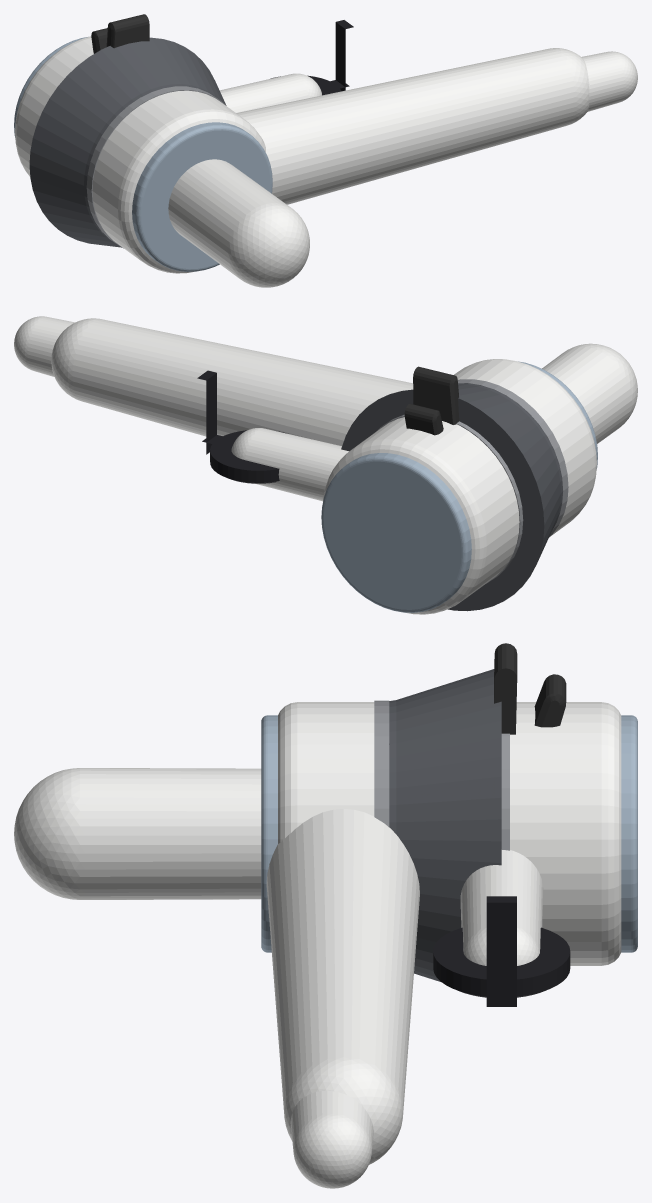
File: arm.glb
The picture shows the model from 3 angles, top to bottom: view 1: azimuth 30°, elevation 25°; view 2: azimuth 150°, elevation 25°; view 3: azimuth 270°, elevation 25°; orthographic projection. The views are drawn at different scales.
Visible parts, largest first — view 1: b3, b1, b2, b5, b4, b11; view 2: b3, b1, b5, b2, b4, b11, b8; view 3: b3, b2, b1, b5, b4, b11, b8.
Part boxes in pixels (x1,y1,x2,y2): b3: (14,36,589,273); b1: (29,37,226,247); b2: (168,159,309,287); b5: (219,20,353,112); b4: (581,51,637,111); b11: (106,14,149,48); b3: (51,318,597,614); b1: (341,383,562,611); b5: (197,370,348,501); b2: (542,343,637,443); b4: (14,316,75,376); b11: (413,366,459,424); b8: (404,403,443,435); b3: (261,700,637,1164); b2: (14,768,261,899); b1: (389,669,501,982); b5: (433,850,570,1006); b4: (290,1090,373,1188); b11: (494,643,517,734); b8: (534,674,566,727).
Size of the model in its own units: 0.5054 by 0.1949 by 0.3309.
